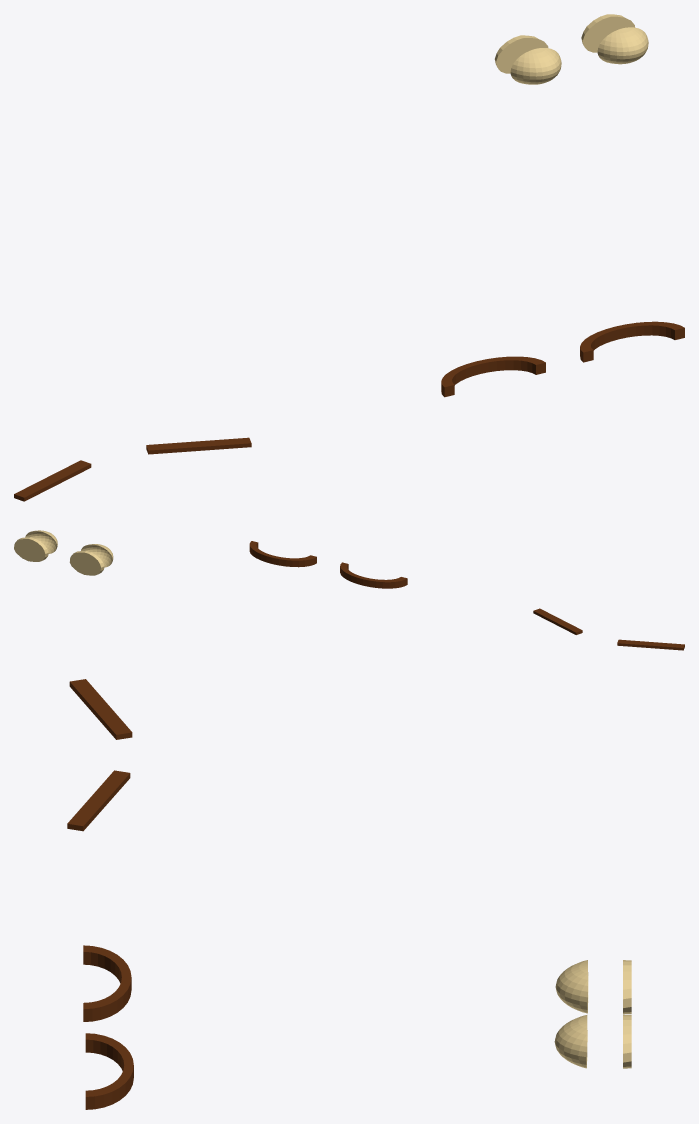
Rendered from hojo_item.fbx.
3 views of the same model, one above another, from view 1: azimuth 30°, elevation 25°; view 2: azimuth 150°, elevation 25°; view 3: azimuth 270°, elevation 25° (orthographic). The views are drawn at different scales.
Parts seen in each view (by area): view 1: mayge_warau, mayge_warau.001, mabuta_plus_2, mabuta_plus_4, mayuge_jizai, mayu_ex_plus_and, mayu_ex_plus_and.001, mayuge_jizai.001; view 2: mayge_warau, mayge_warau.001, mayu_ex_plus_and, mayu_ex_plus_and.001, mayuge_jizai.001, mabuta_plus_2, mayuge_jizai, mabuta_plus_4; view 3: mayge_warau.001, mayge_warau, mayuge_jizai, mayuge_jizai.001, mabuta_plus_2, mabuta_plus_4.
Boxes of the visible parts, left/top/right/bottom form: mayge_warau: left=441, top=356, right=545, bottom=397; mayge_warau.001: left=580, top=321, right=684, bottom=362; mabuta_plus_2: left=597, top=27, right=648, bottom=64; mabuta_plus_4: left=510, top=48, right=561, bottom=84; mayuge_jizai: left=146, top=437, right=251, bottom=454; mayu_ex_plus_and: left=581, top=14, right=634, bottom=52; mayu_ex_plus_and.001: left=494, top=35, right=548, bottom=73; mayuge_jizai.001: left=14, top=460, right=91, bottom=501; mayge_warau: left=340, top=562, right=407, bottom=588; mayge_warau.001: left=249, top=541, right=316, bottom=567; mayu_ex_plus_and: left=14, top=537, right=48, bottom=561; mayu_ex_plus_and.001: left=69, top=551, right=104, bottom=575; mayuge_jizai.001: left=617, top=639, right=684, bottom=650; mabuta_plus_2: left=25, top=530, right=57, bottom=553; mayuge_jizai: left=533, top=608, right=582, bottom=634; mabuta_plus_4: left=81, top=544, right=113, bottom=567; mayge_warau.001: left=85, top=1033, right=133, bottom=1109; mayge_warau: left=83, top=945, right=131, bottom=1021; mayuge_jizai: left=67, top=770, right=130, bottom=831; mayuge_jizai.001: left=69, top=679, right=132, bottom=739; mabuta_plus_2: left=554, top=1015, right=587, bottom=1068; mabuta_plus_4: left=555, top=960, right=588, bottom=1013.
Bounding box in the file's own units: 582 × 90.8 × 266.
